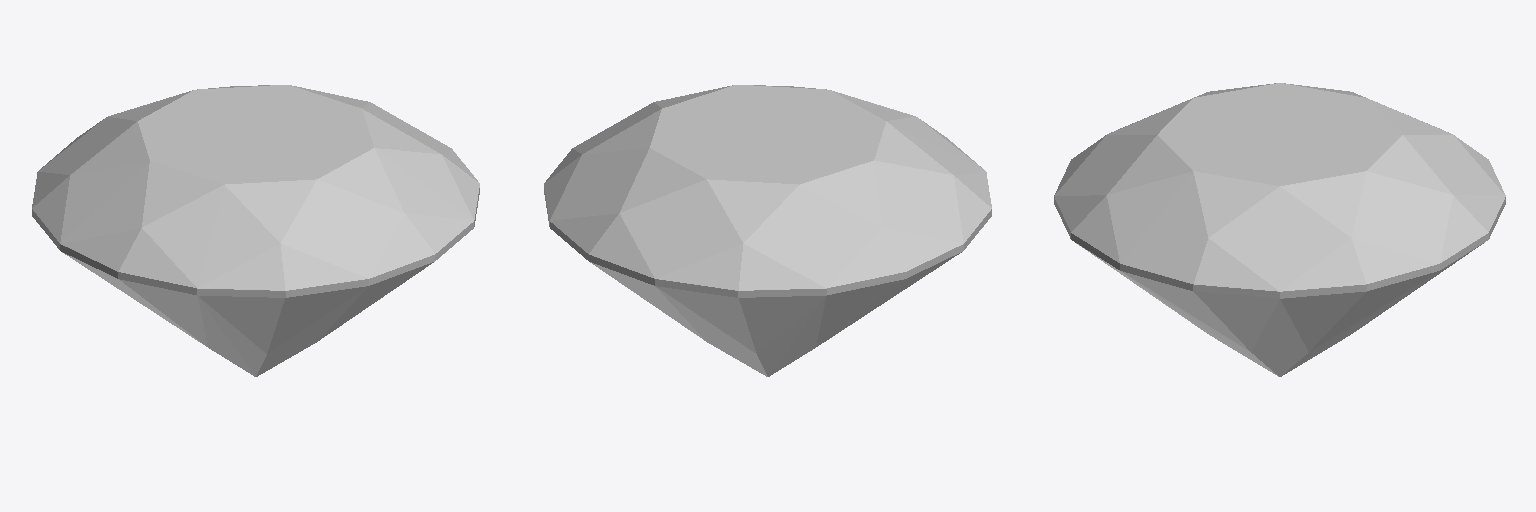
The model's file is dia.obj.
The picture shows the model from 3 angles: view 1: azimuth 30°, elevation 25°; view 2: azimuth 150°, elevation 25°; view 3: azimuth 270°, elevation 25°; orthographic projection.
Visible parts, largest first — view 1: dia; view 2: dia; view 3: dia.
Boxes of the visible parts, x1,y1,x2,y2 form: dia: [32, 85, 479, 376]; dia: [544, 85, 991, 376]; dia: [1054, 83, 1505, 376].
Size of the model in its own units: 1 by 0.5928 by 1.